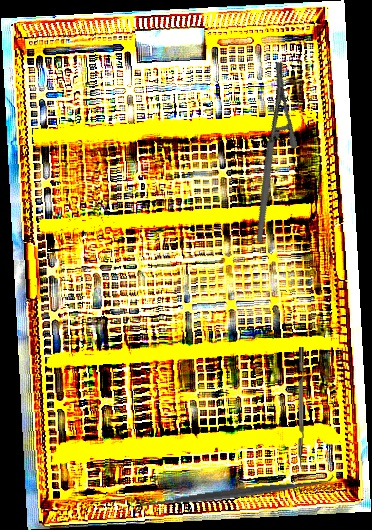Chopper: (296, 346, 311, 473)
Needle Holder: (200, 58, 338, 244)
Spatula Surgical: (132, 470, 336, 518)
